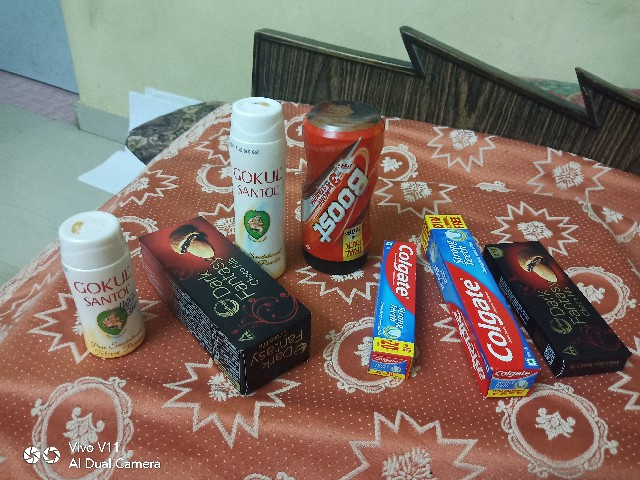boost small: (303, 91, 385, 267)
colgatetoothpaste big: (426, 207, 538, 421)
colgatetoothpaste small: (370, 230, 423, 378)
darkfantasy big: (138, 212, 310, 413)
darkfantasy small: (491, 235, 631, 378)
gokulsantol big: (225, 84, 293, 276)
gokulsantol small: (47, 205, 142, 364)
